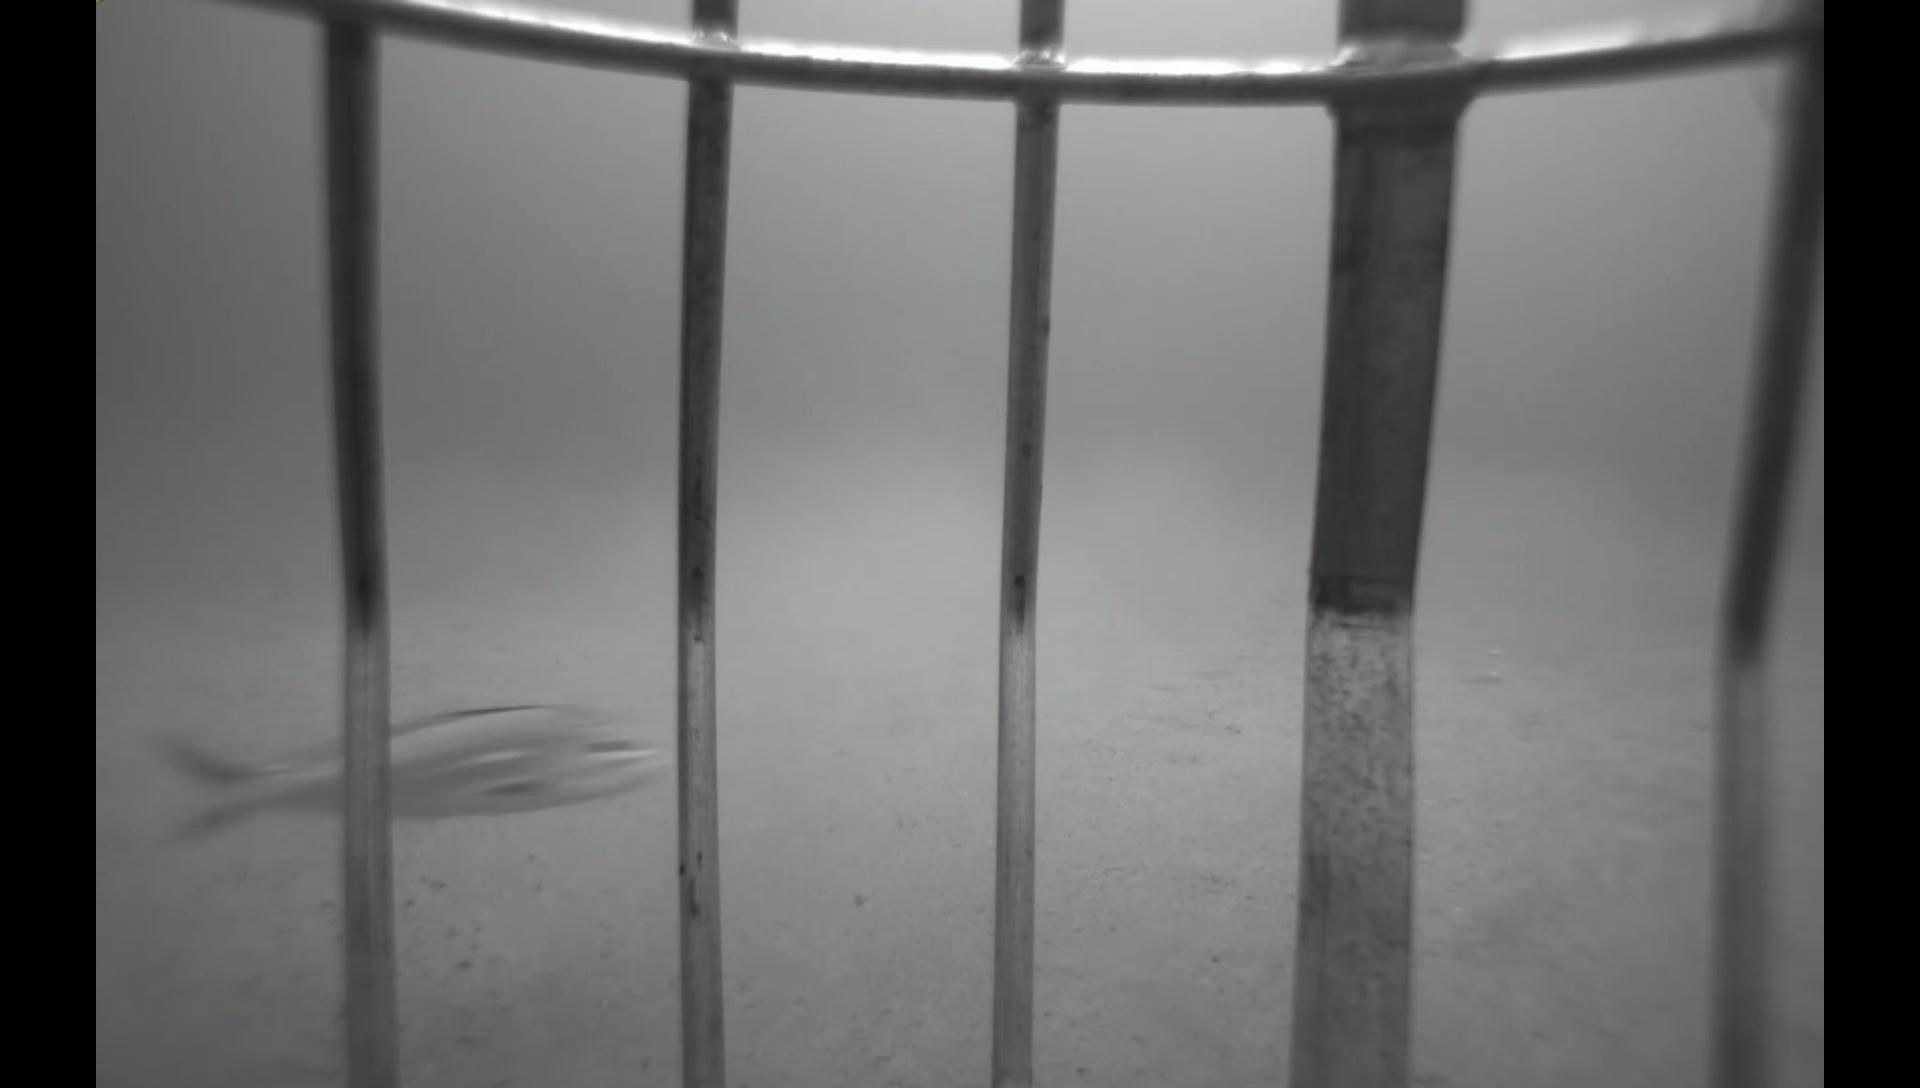CAULOLATILUSCYANOPS-170070101: (133, 692, 676, 860)
SYACIUM-183011000: (1143, 699, 1249, 742)
